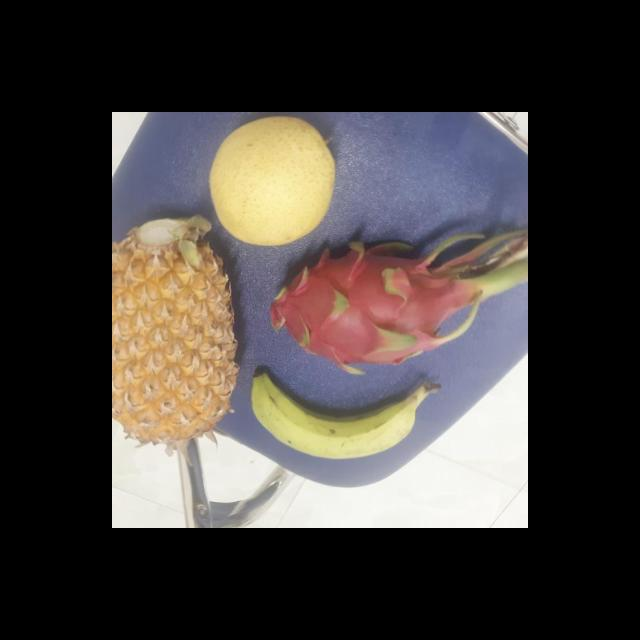banana: (246, 370, 423, 460)
pear: (205, 116, 338, 248)
pineapple: (112, 218, 240, 438)
pitaya: (249, 238, 470, 370)
